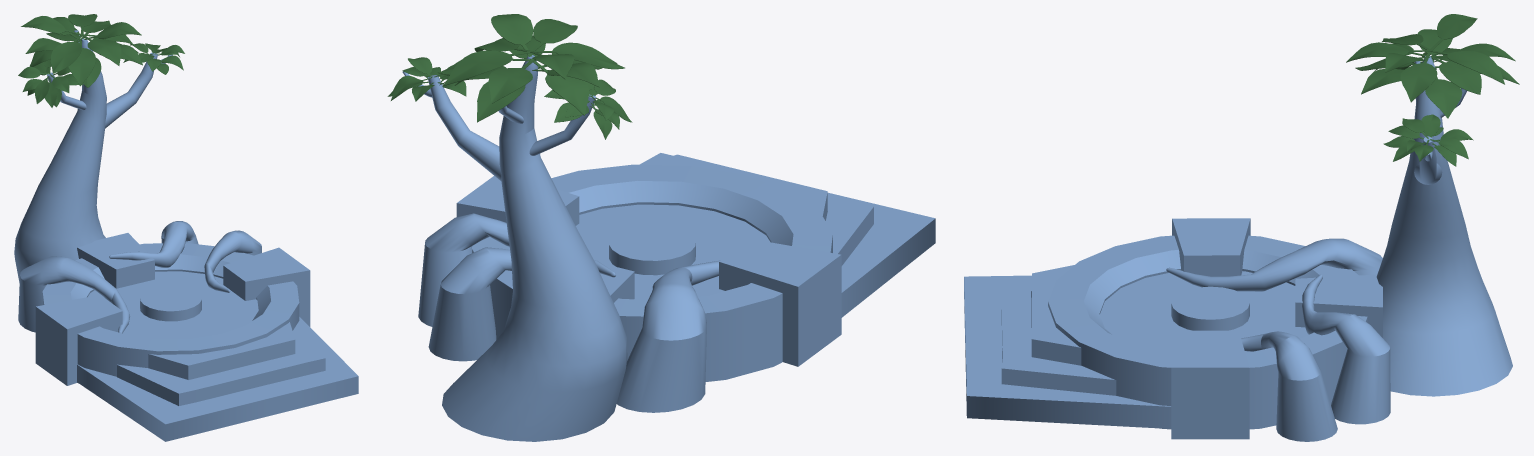
Rendered from SM_IceStand_JG 2.fbx.
3 renders of one model, left to right at view 1: azimuth 30°, elevation 25°; view 2: azimuth 150°, elevation 25°; view 3: azimuth 270°, elevation 25°, orthographic. The views are drawn at different scales.
Visible parts, largest first — view 1: SM_IceStand; view 2: SM_IceStand; view 3: SM_IceStand.
Part boxes in pixels (x1,y1,x2,y2): SM_IceStand: (14,14,358,441); SM_IceStand: (387,14,935,441); SM_IceStand: (964,14,1519,441).
Bounding box in the file's own units: 156 × 160 × 244.
